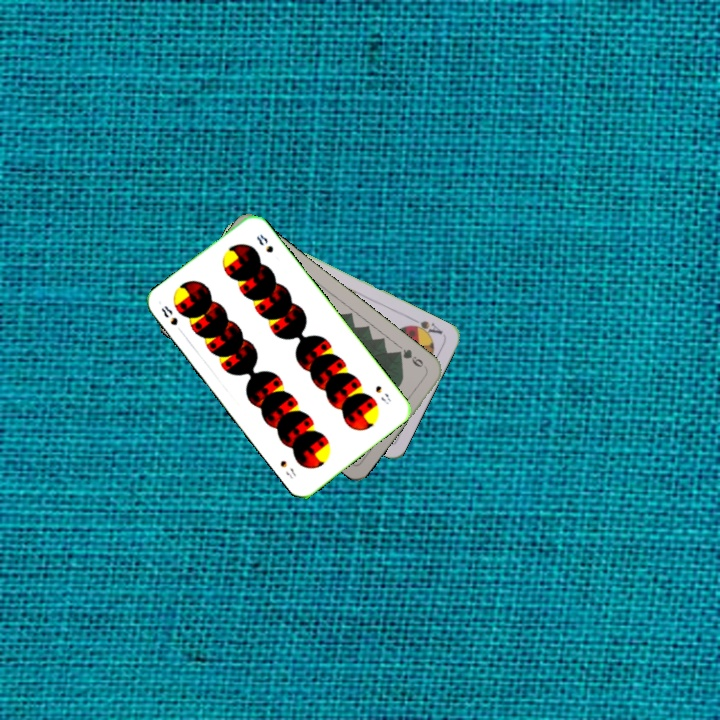G9: (392, 342, 429, 372)
S8: (157, 301, 181, 328), (371, 381, 394, 407)
SA: (405, 314, 445, 339)
